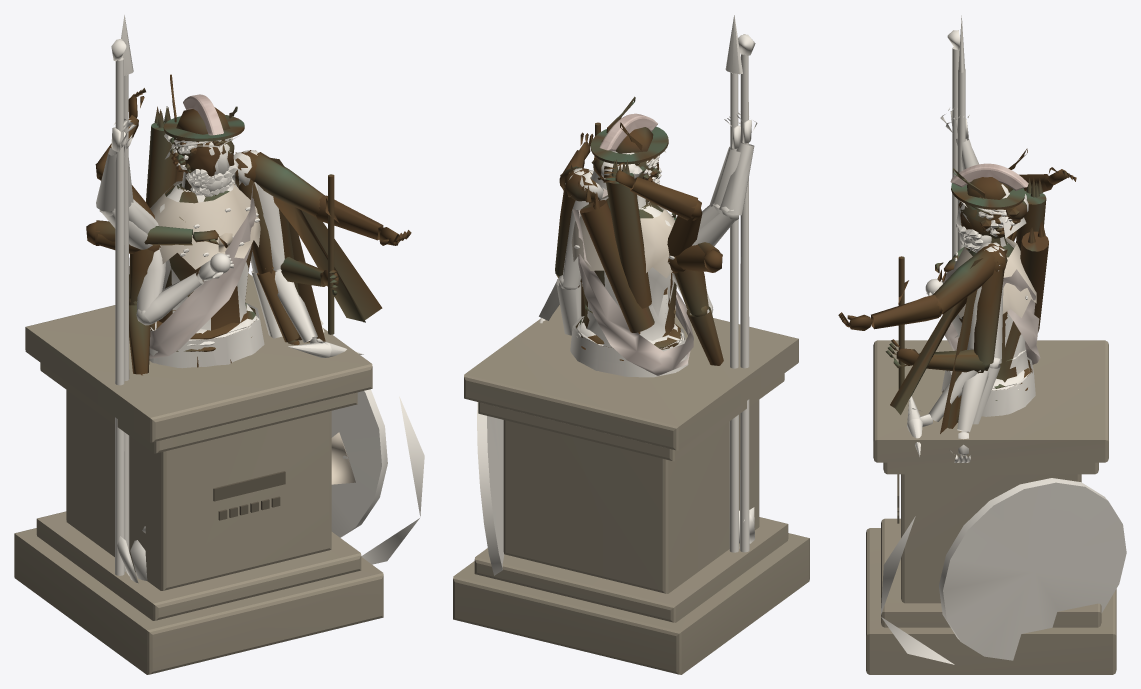
File: statues-far.glb
The picture shows the model from 3 angles, left to right: view 1: azimuth 30°, elevation 25°; view 2: azimuth 150°, elevation 25°; view 3: azimuth 270°, elevation 25°; orthographic projection. The views are drawn at different scales.
Parts seen in each view (by area): view 1: Apollo_Pedestal_Part_stone, Minerva_Attr_marble, Apollo_ArmL_bronze, Jupiter_Attr_marble, Minerva_Torso_marble, Jupiter_Torso_marble, Mercury_Attr_bronze, Venus_ArmR_marble, Mercury_ArmL_bronze, Jupiter_ArmL_marble, Diana_ArmL_bronze, Minerva_Legs_marble (+12 smaller); view 2: Apollo_Pedestal_Part_stone, Minerva_Attr_marble, Jupiter_Torso_marble, Jupiter_Attr_marble, Minerva_Torso_marble, Diana_Attr_bronze, Apollo_Attr_bronze, Diana_ArmR_bronze, Jupiter_ArmR_marble, Mercury_Attr_bronze, Mercury_ArmR_bronze, Venus_ArmL_marble (+7 smaller); view 3: Apollo_Pedestal_Part_stone, Minerva_Attr_marble, Apollo_ArmL_bronze, Mercury_ArmL_bronze, Minerva_Torso_marble, Mercury_Attr_bronze, Jupiter_Attr_marble, Jupiter_Torso_marble, Apollo_Attr_bronze, Minerva_ArmL_marble, Minerva_Legs_marble, Jupiter_ArmL_marble (+8 smaller).
Boxes of the visible parts, x1,y1,x2,y2 form: Apollo_Pedestal_Part_stone: [14, 273, 383, 674]; Minerva_Attr_marble: [121, 15, 424, 571]; Apollo_ArmL_bronze: [235, 150, 411, 322]; Jupiter_Attr_marble: [111, 39, 363, 583]; Minerva_Torso_marble: [150, 181, 260, 333]; Jupiter_Torso_marble: [149, 182, 258, 358]; Mercury_Attr_bronze: [163, 74, 339, 334]; Venus_ArmR_marble: [136, 245, 233, 325]; Mercury_ArmL_bronze: [244, 150, 338, 342]; Jupiter_ArmL_marble: [243, 150, 328, 345]; Diana_ArmL_bronze: [234, 152, 299, 344]; Minerva_Legs_marble: [149, 302, 264, 368]; Apollo_Pedestal_Part_stone: [453, 305, 809, 674]; Minerva_Attr_marble: [477, 15, 742, 575]; Jupiter_Torso_marble: [572, 188, 693, 375]; Jupiter_Attr_marble: [738, 34, 755, 552]; Minerva_Torso_marble: [571, 195, 679, 347]; Diana_Attr_bronze: [606, 160, 651, 308]; Apollo_Attr_bronze: [580, 185, 654, 332]; Diana_ArmR_bronze: [603, 162, 702, 272]; Jupiter_ArmR_marble: [692, 111, 757, 246]; Mercury_Attr_bronze: [590, 96, 668, 167]; Mercury_ArmR_bronze: [672, 270, 723, 365]; Venus_ArmL_marble: [556, 170, 603, 335]; Apollo_Pedestal_Part_stone: [866, 340, 1116, 674]; Minerva_Attr_marble: [880, 15, 1126, 664]; Apollo_ArmL_bronze: [838, 248, 1007, 414]; Mercury_ArmL_bronze: [885, 245, 1007, 433]; Minerva_Torso_marble: [942, 238, 1036, 388]; Mercury_Attr_bronze: [898, 148, 1027, 389]; Jupiter_Attr_marble: [907, 30, 960, 456]; Jupiter_Torso_marble: [944, 249, 1040, 390]; Apollo_Attr_bronze: [966, 221, 1048, 332]; Minerva_ArmL_marble: [950, 243, 1004, 462]; Minerva_Legs_marble: [941, 357, 1035, 416]; Jupiter_ArmL_marble: [909, 245, 1002, 426].
Size of the model in its own units: 1.21 by 2.54 by 1.15.
